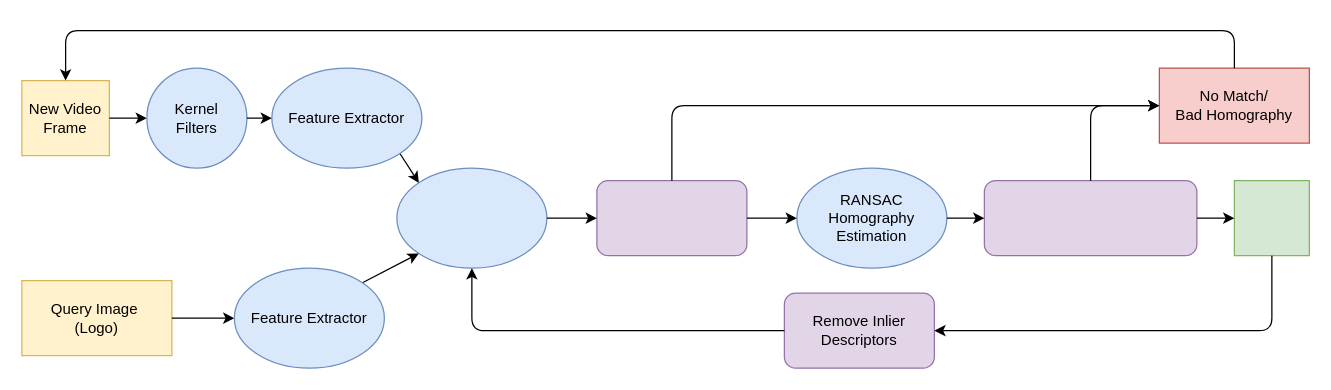
Image size: 1331x390. Some labels were removed from this diagram. Each missing label, with the centre of its shape:
"Homograaphy Shape/Area/Intersection Checks" goes at point (1090, 217).
"Matcher (FLANN/BF)" goes at point (471, 217).
"Ratio Test/ Cross Check/ Minimum Matches" goes at point (671, 217).
"VALID" goes at point (1271, 217).
